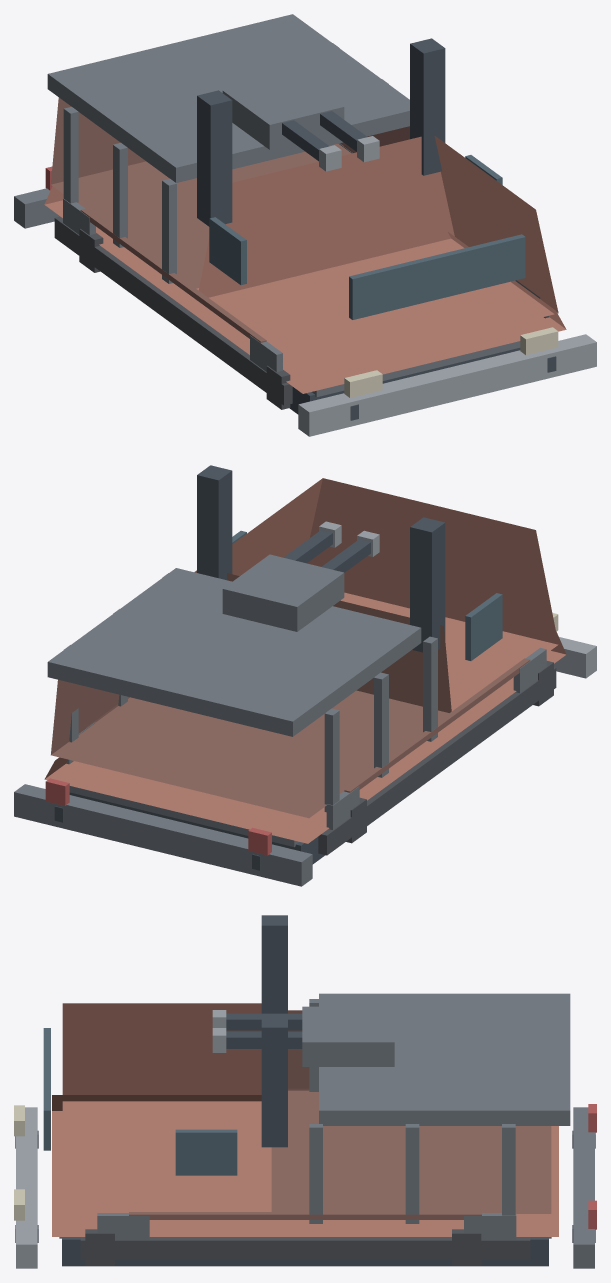
The model's file is titan.glb.
The picture shows the model from 3 angles, top to bottom: view 1: azimuth 30°, elevation 25°; view 2: azimuth 150°, elevation 25°; view 3: azimuth 270°, elevation 25°; orthographic projection. The views are drawn at different scales.
Parts seen in each view (by area): view 1: titan_batch01, titan_batch02, titan_batch04, titan_batch00, titan_batch05, titan_batch08, titan_batch03, titan_batch06; view 2: titan_batch02, titan_batch01, titan_batch04, titan_batch00, titan_batch03, titan_batch08, titan_batch05, titan_batch07; view 3: titan_batch01, titan_batch02, titan_batch04, titan_batch00, titan_batch03, titan_batch08, titan_batch05, titan_batch06, titan_batch07.
Part boxes in pixels (left/top/right/bottom): titan_batch01: left=44, top=136, right=566, bottom=393; titan_batch02: left=14, top=14, right=540, bottom=397; titan_batch04: left=50, top=97, right=409, bottom=342; titan_batch00: left=197, top=38, right=556, bottom=420; titan_batch05: left=298, top=136, right=596, bottom=436; titan_batch08: left=209, top=155, right=525, bottom=319; titan_batch03: left=54, top=216, right=549, bottom=409; titan_batch06: left=344, top=327, right=558, bottom=397; titan_batch02: left=14, top=554, right=546, bottom=886; titan_batch01: left=44, top=478, right=566, bottom=843; titan_batch04: left=51, top=570, right=530, bottom=818; titan_batch00: left=54, top=465, right=445, bottom=870; titan_batch03: left=318, top=661, right=556, bottom=855; titan_batch08: left=232, top=530, right=502, bottom=660; titan_batch05: left=319, top=521, right=596, bottom=678; titan_batch07: left=45, top=778, right=271, bottom=855; titan_batch01: left=52, top=1003, right=558, bottom=1236; titan_batch02: left=59, top=993, right=594, bottom=1268; titan_batch04: left=129, top=1010, right=551, bottom=1219; titan_batch00: left=15, top=915, right=595, bottom=1266; titan_batch03: left=80, top=1229, right=530, bottom=1265; titan_batch08: left=43, top=1028, right=237, bottom=1175; titan_batch05: left=16, top=1010, right=226, bottom=1268; titan_batch06: left=14, top=1105, right=24, bottom=1220; titan_batch07: left=588, top=1104, right=596, bottom=1229.
Bounding box in the file's own units: 5.29 × 4.26 × 9.48.
